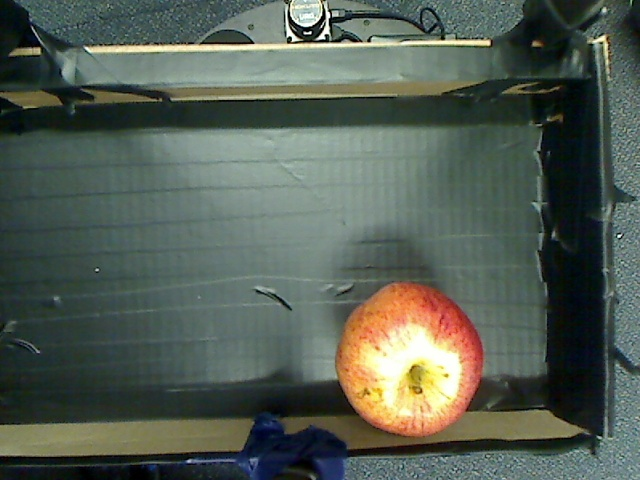apple: (325, 274, 492, 448)
